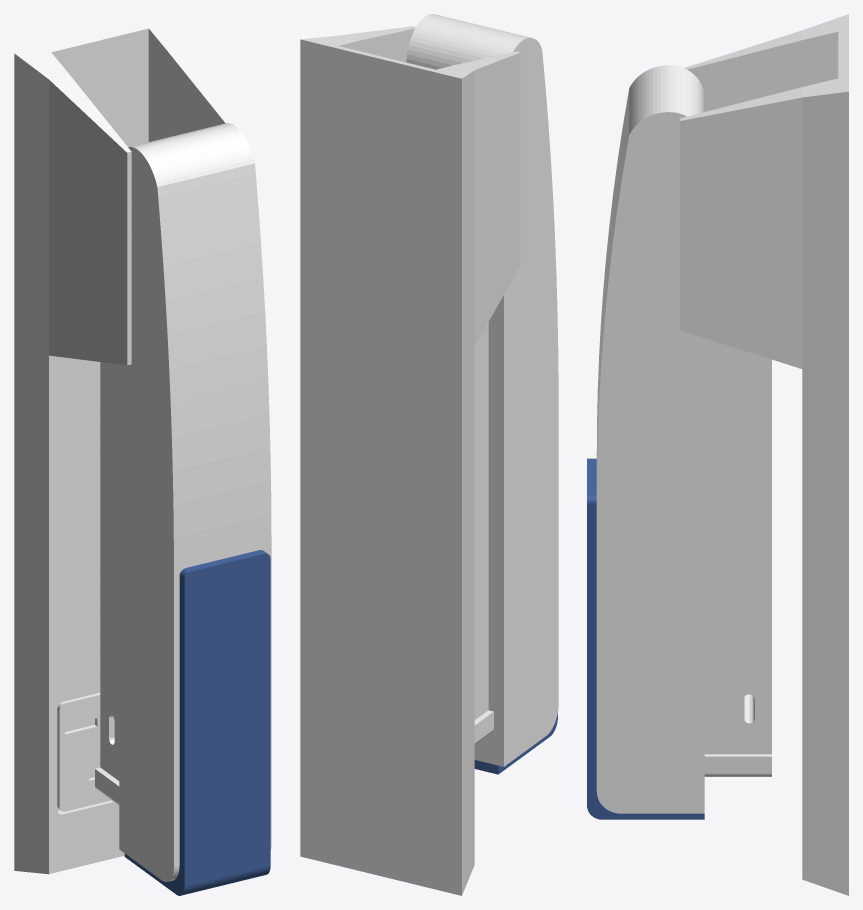
3 renders of one model, left to right at view 1: azimuth 30°, elevation 25°; view 2: azimuth 150°, elevation 25°; view 3: azimuth 270°, elevation 25°, orthographic.
Visible parts, largest first — view 1: stapler; view 2: stapler; view 3: stapler.
Boxes of the visible parts, x1,y1,x2,y2 form: stapler: (14,14,271,895); stapler: (300,14,558,895); stapler: (587,14,848,895).
Bounding box in the file's own units: 1.5 × 7.25 × 2.14.
